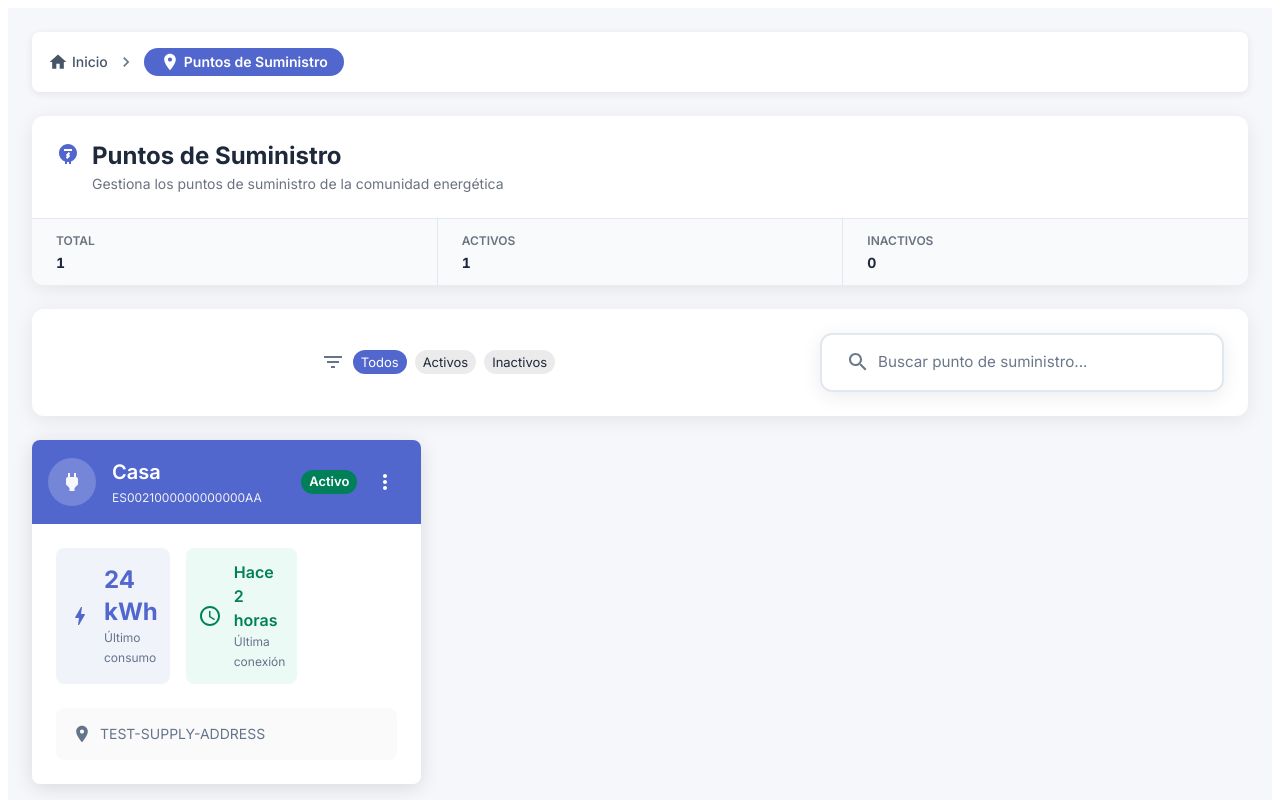
SupplyPointsPage › UI-SUP-001 Eliminar punto de suministro on the card menu › UI-SUP-001 is not offered without canDelete, even with canEdit
The width and height of the screenshot is (1280, 800).
Click the button named "Más acciones para Casa": (385, 482) x1=365 y1=462 x2=405 y2=502
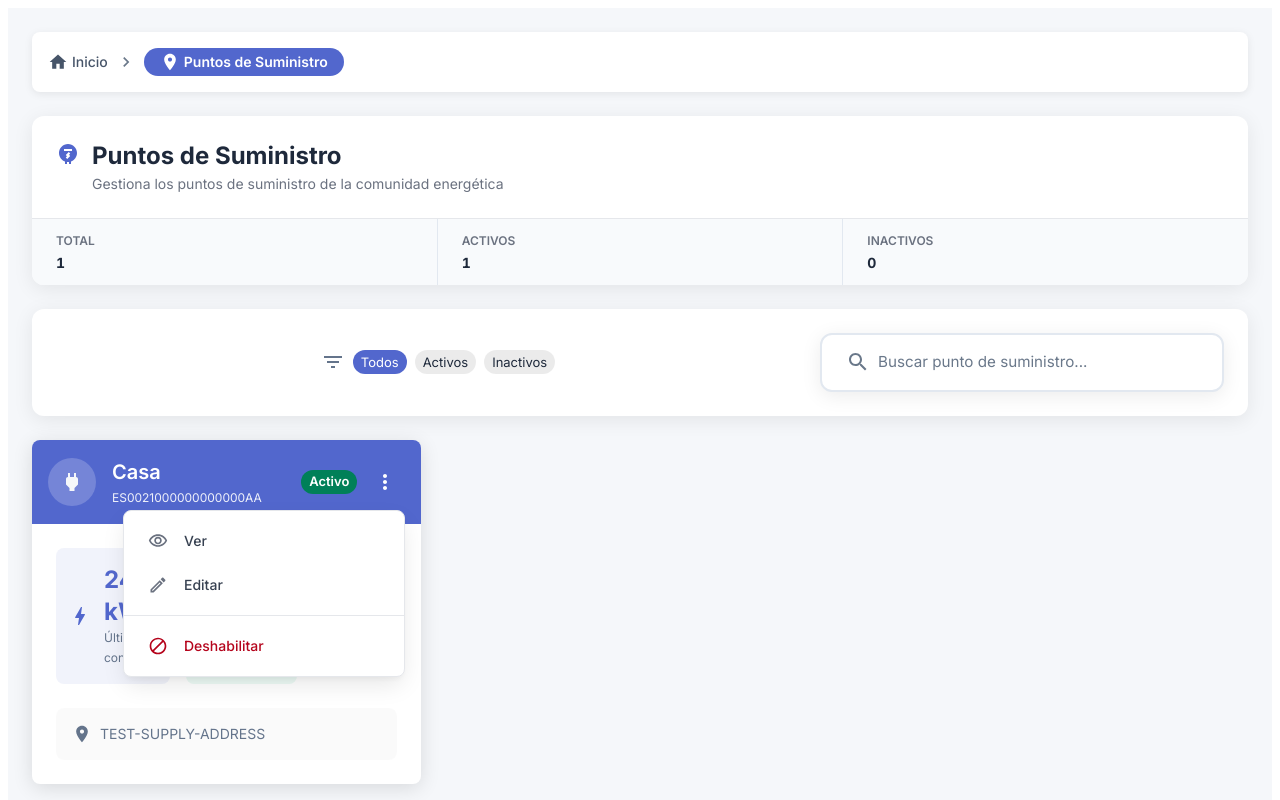
Check: the menu item "Deshabilitar" is shown, box x1=148 y1=636 x2=264 y2=656
